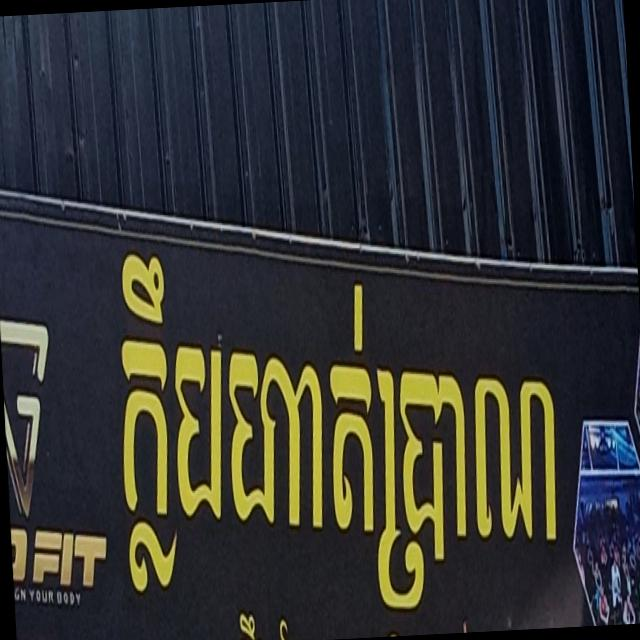Yolov11kh: (87, 214, 579, 626)
